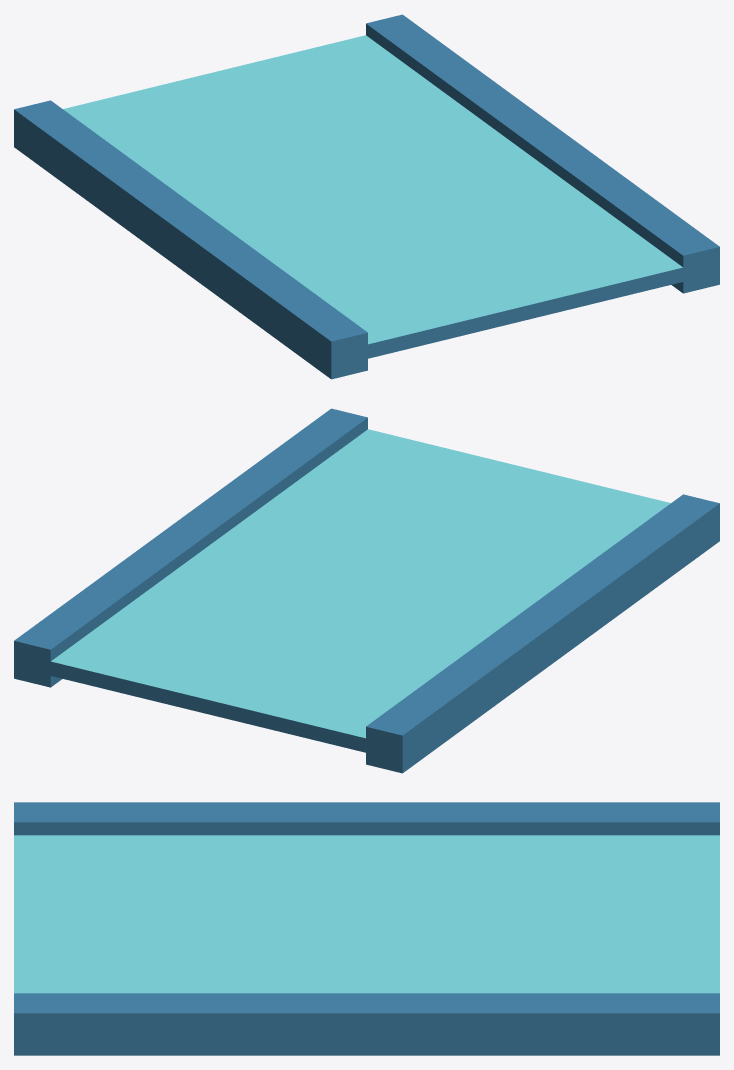
File: Ground1_Blue.fbx
The picture shows the model from 3 angles, top to bottom: view 1: azimuth 30°, elevation 25°; view 2: azimuth 150°, elevation 25°; view 3: azimuth 270°, elevation 25°; orthographic projection. The views are drawn at different scales.
Parts seen in each view (by area): view 1: Cube.004; view 2: Cube.004; view 3: Cube.004.
Boxes of the visible parts, <box> form: Cube.004: <box>14,14,719,379</box>; Cube.004: <box>14,408,719,773</box>; Cube.004: <box>14,802,719,1055</box>.
Bounding box in the file's own units: 6.28 × 8.88 × 0.5843.
